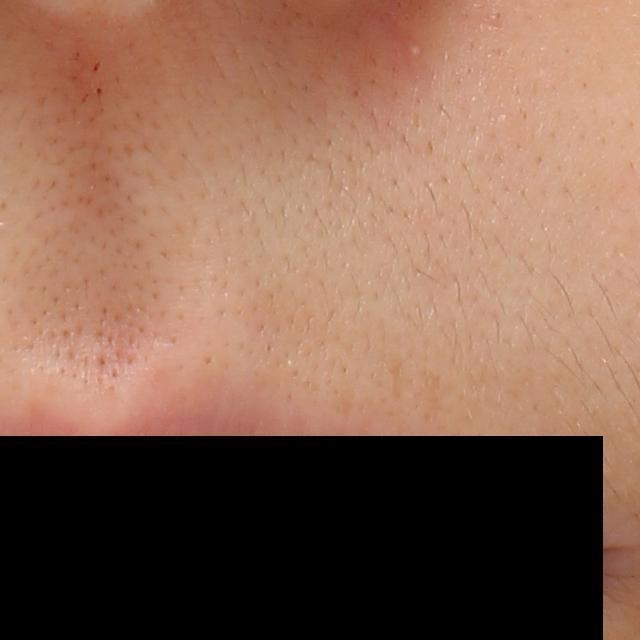pustule: (403, 41, 425, 61)
